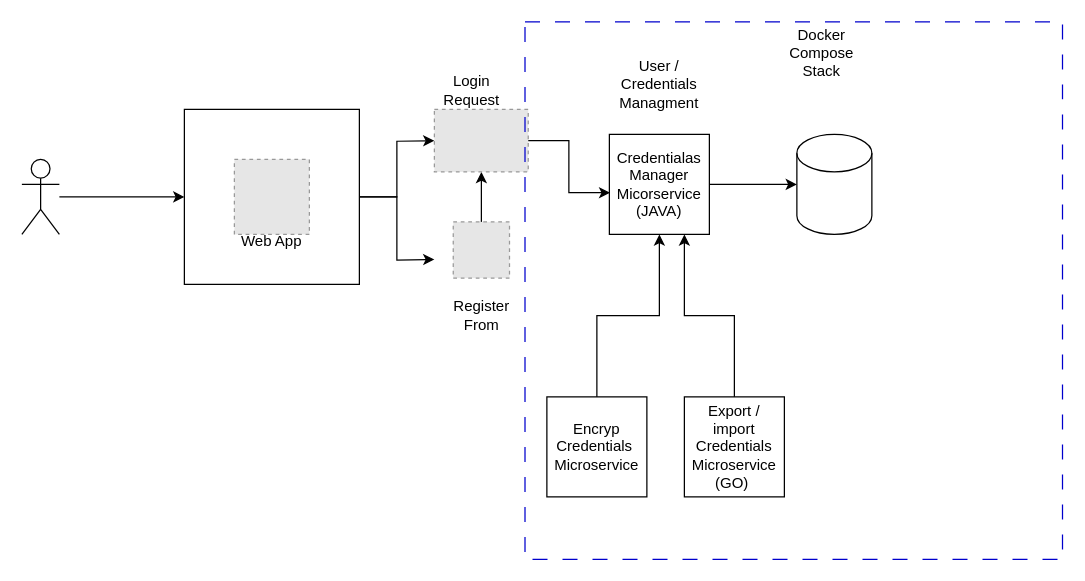
The diagram is 1085 pixels wide and 581 high, and some of its shapes have lost their labels. Grey dashed boxes stand in for pictures. Each missing label, with the centre of its shape:
Actor: pixel 40 196
DB: pixel 834 183
